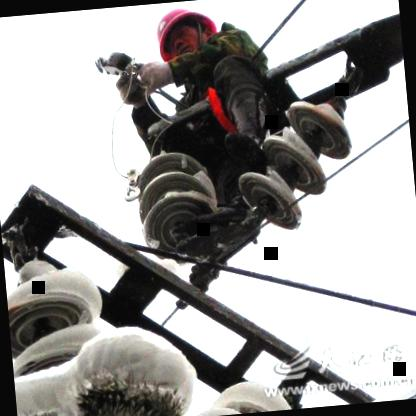helmet: (144, 0, 230, 78)
